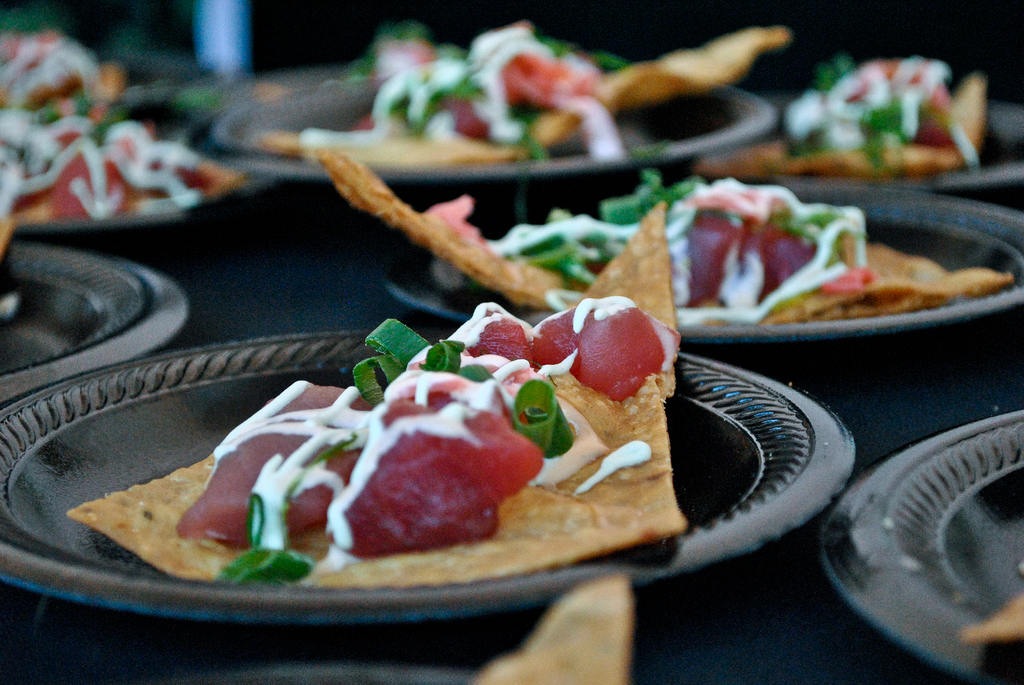taco: (89, 292, 686, 626), (339, 148, 1011, 345)
